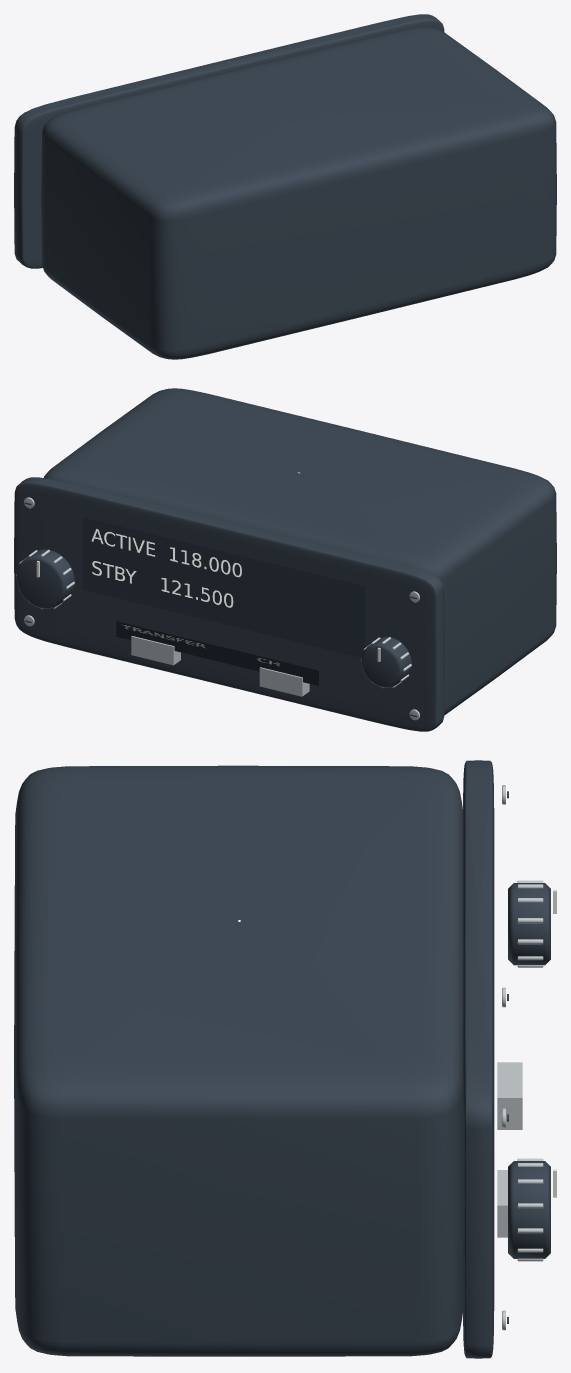
Rendered from aviation_radio.glb.
3 renders of one model, top to bottom at view 1: azimuth 30°, elevation 25°; view 2: azimuth 150°, elevation 25°; view 3: azimuth 270°, elevation 25°, orthographic. The views are drawn at different scales.
Visible parts, largest first — view 1: Radio_Rack_Case, Radio_Front_Plate; view 2: Radio_Rack_Case, Radio_Front_Plate, Frequency_Display, Radio_Legend, Radio_Tuning_Knob_Body, Radio_Volume_Body, Swap_Button, Channel_Button; view 3: Radio_Rack_Case, Radio_Front_Plate, Radio_Tuning_Knob_Body, Radio_Volume_Body, Swap_Button, Radio_Tuning_Knob, Radio_Volume, Channel_Button.
Boxes of the visible parts, x1,y1,x2,y2 form: Radio_Rack_Case: [41, 27, 556, 359]; Radio_Front_Plate: [14, 14, 444, 268]; Radio_Rack_Case: [44, 388, 556, 715]; Radio_Front_Plate: [14, 477, 444, 731]; Frequency_Display: [83, 517, 364, 657]; Radio_Legend: [116, 621, 318, 685]; Radio_Tuning_Knob_Body: [16, 549, 74, 608]; Radio_Volume_Body: [361, 637, 411, 687]; Swap_Button: [259, 667, 309, 696]; Channel_Button: [131, 636, 180, 665]; Radio_Rack_Case: [14, 765, 462, 1356]; Radio_Front_Plate: [463, 760, 494, 1358]; Radio_Tuning_Knob_Body: [508, 1161, 550, 1258]; Radio_Volume_Body: [508, 883, 550, 965]; Swap_Button: [497, 1062, 522, 1129]; Radio_Tuning_Knob: [517, 1158, 543, 1261]; Radio_Volume: [517, 880, 543, 967]; Channel_Button: [497, 1170, 507, 1237].
Size of the model in its own units: 0.43 by 0.158 by 0.277.
5 materials, 2 textured.
